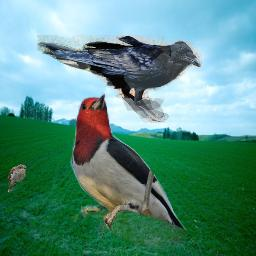Crow: (37, 35, 202, 123)
Cuckoo: (7, 164, 27, 193)
Woodpecker: (66, 86, 193, 247)
